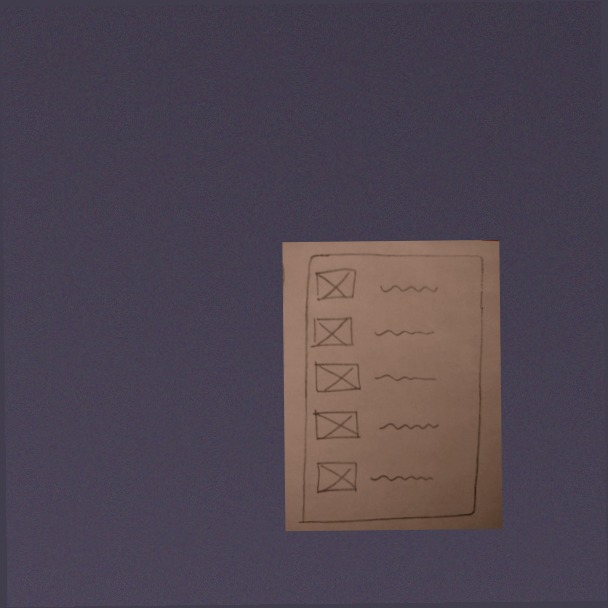image: (310, 459, 363, 495), (311, 406, 363, 441), (311, 360, 363, 394), (313, 268, 358, 304), (310, 315, 355, 350)
text: (368, 465, 439, 487), (375, 277, 440, 300), (372, 320, 437, 343), (372, 365, 437, 388), (376, 413, 441, 436)
